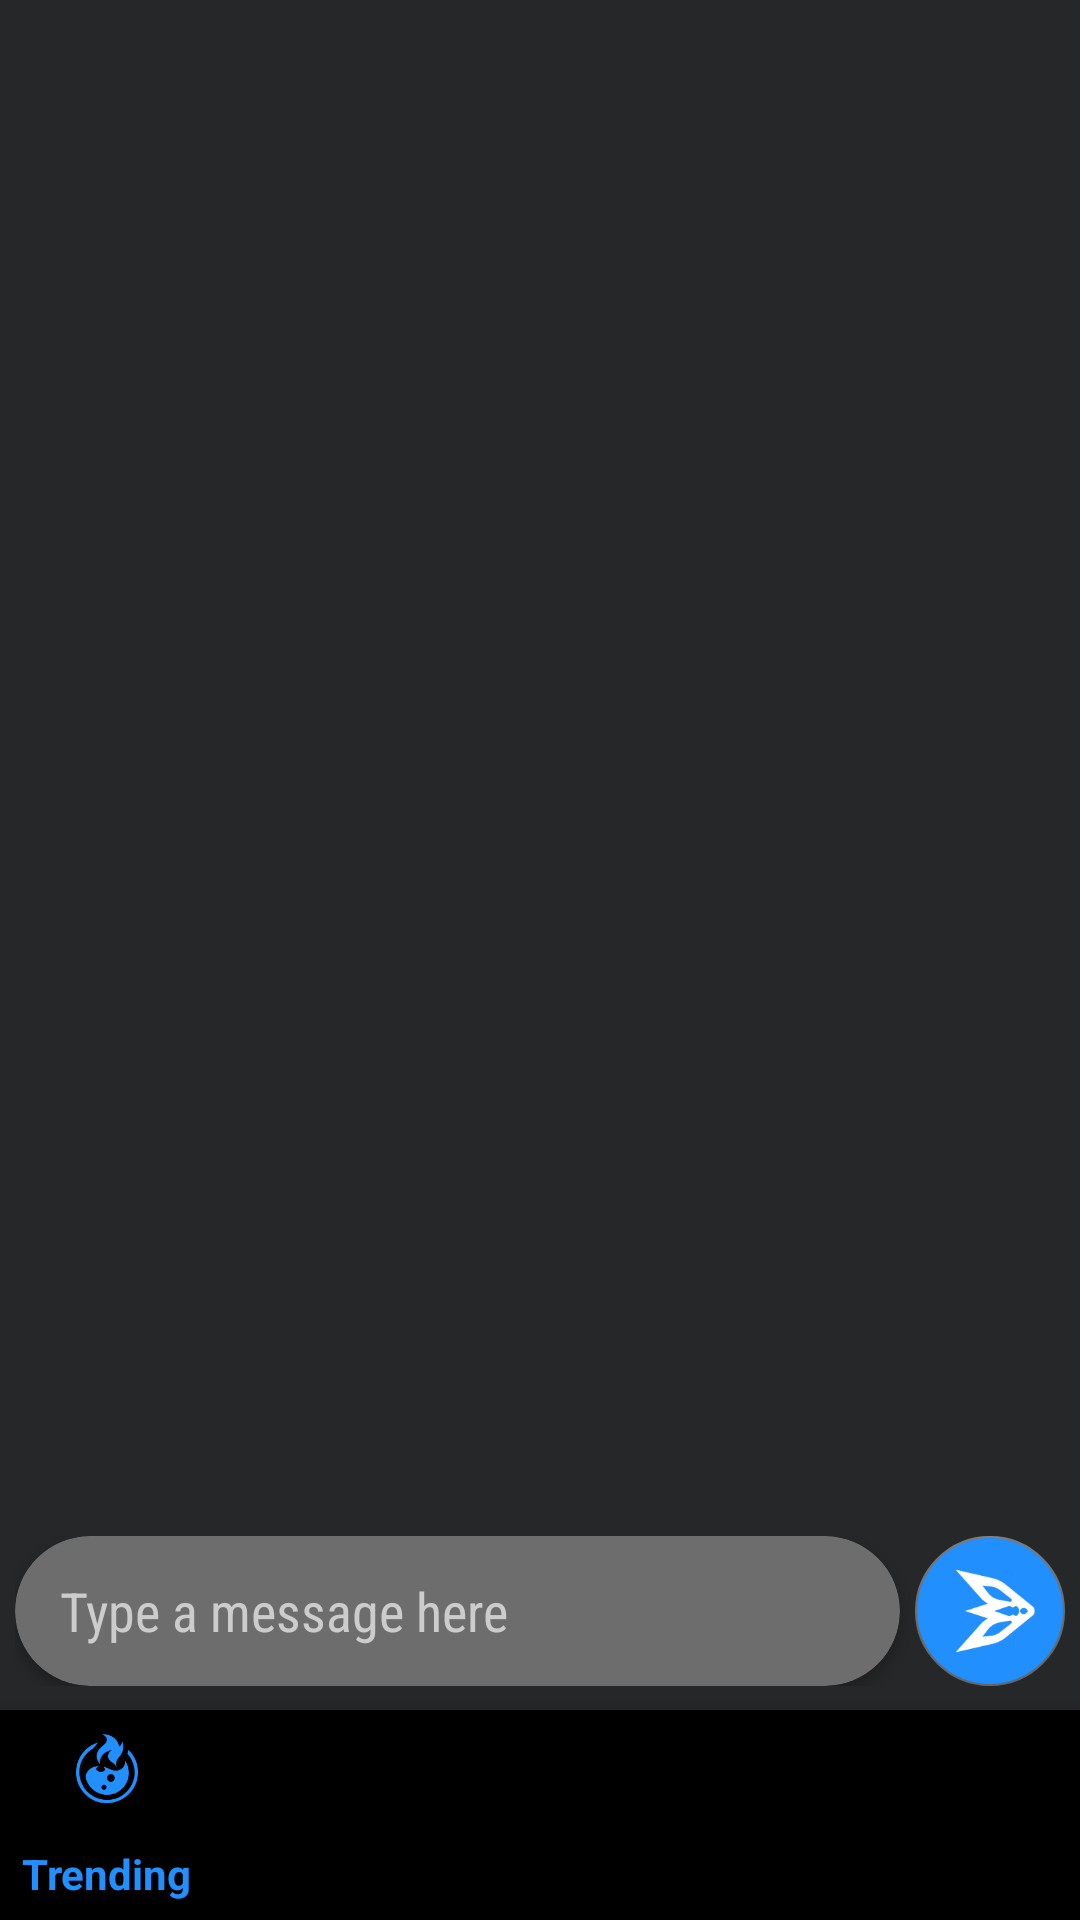

Screen size 1080×1920. Icon name, then its box in pixels as (x1, y1, x2, y2):
send: (956, 1570, 1035, 1652)
